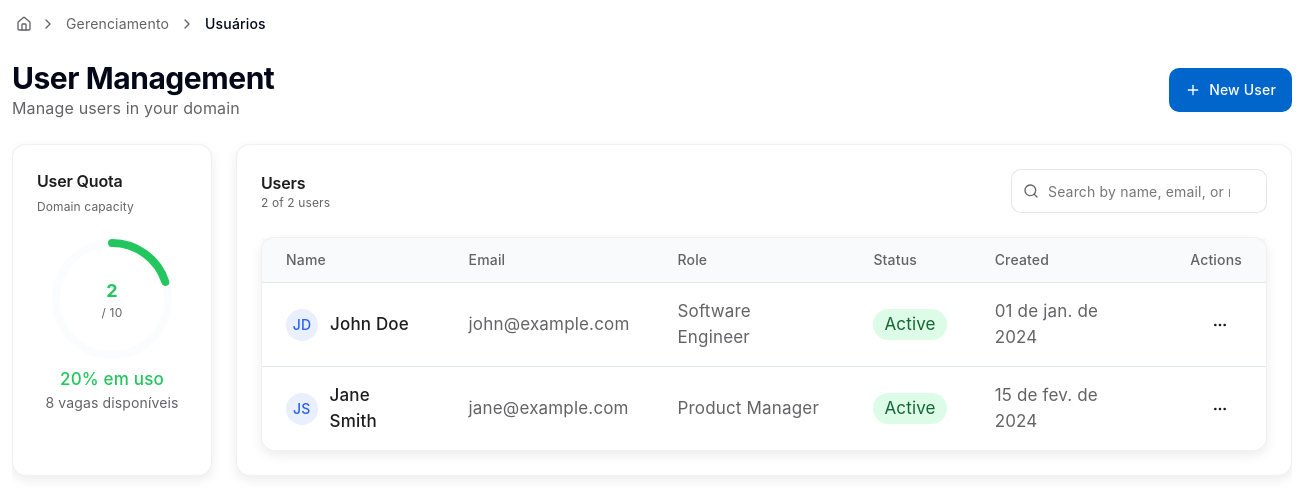
Scenario: UserManagement › Search functionality › should filter users by search query
Type "John" into the field with placeholder "Search by name, email, or role..." at (1139, 191), box [1011,169,1267,213]
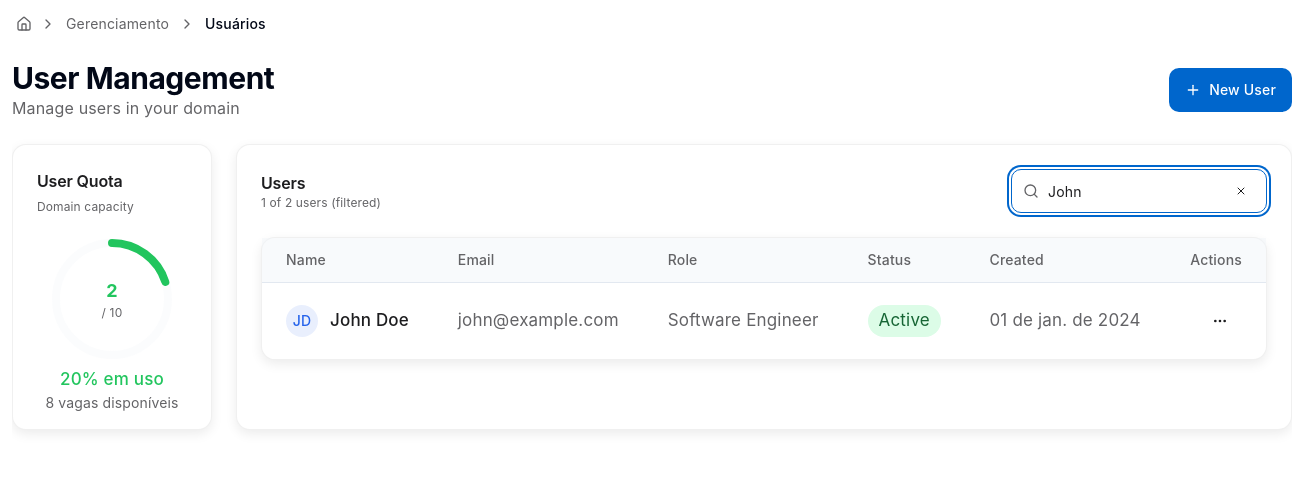
Check: the text "John Doe" is shown, box [330,308,409,334]
Check: the text "Jane Smith" is gone
